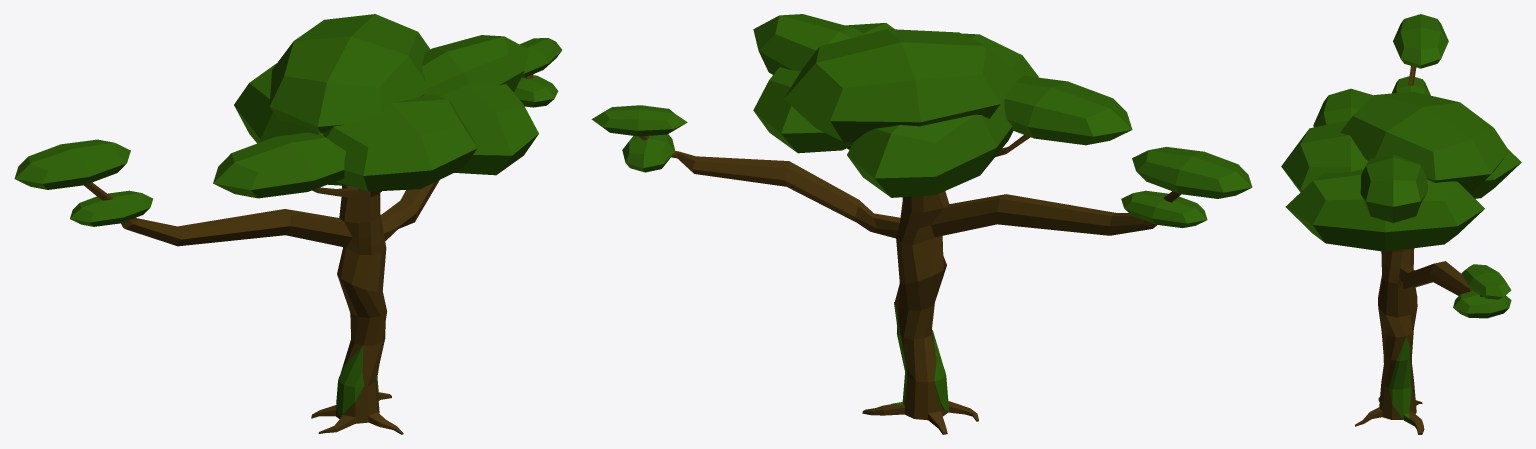
Rendered from Lowpoly_Tree_Jungle_01.fbx.
The picture shows the model from 3 angles, left to right: view 1: azimuth 30°, elevation 25°; view 2: azimuth 150°, elevation 25°; view 3: azimuth 270°, elevation 25°; orthographic projection. The views are drawn at different scales.
Visible parts, largest first — view 1: Cylinder.001; view 2: Cylinder.001; view 3: Cylinder.001.
Boxes of the visible parts, left/top/right/bottom form: Cylinder.001: left=14, top=14, right=561, bottom=434; Cylinder.001: left=591, top=14, right=1252, bottom=434; Cylinder.001: left=1281, top=14, right=1521, bottom=434.
Size of the model in its own units: 4748 by 2856 by 1980.
